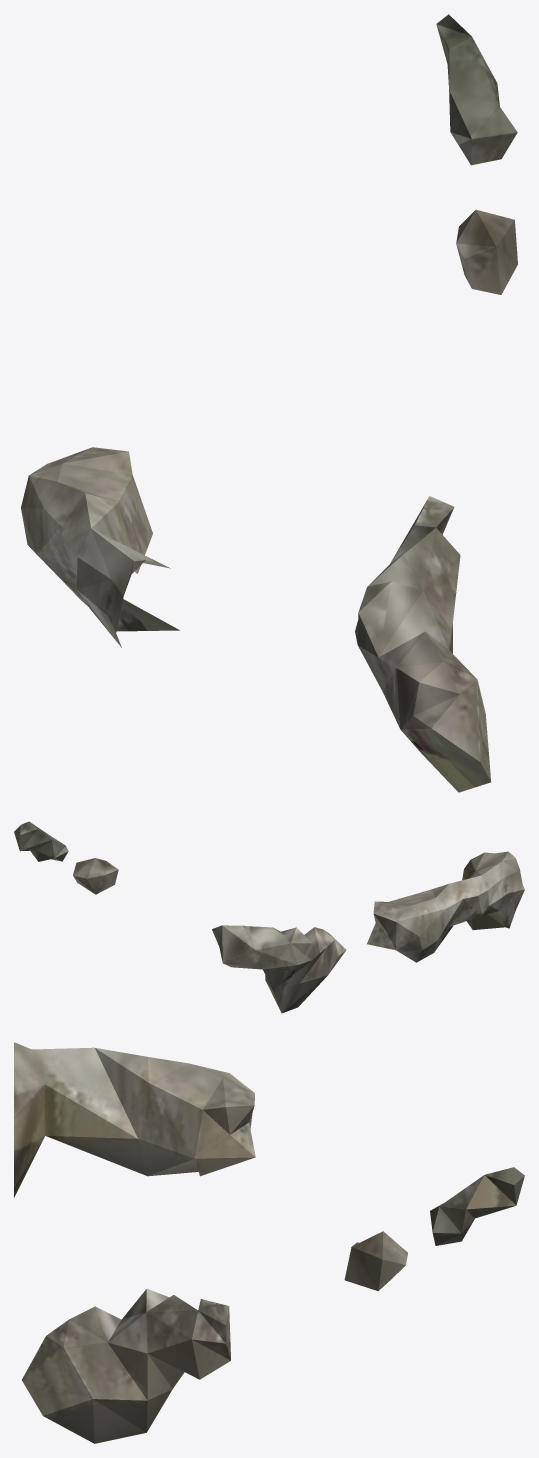
3 renders of one model, top to bottom at view 1: azimuth 30°, elevation 25°; view 2: azimuth 150°, elevation 25°; view 3: azimuth 270°, elevation 25°, orthographic. The views are drawn at different scales.
Bounding box in the file's own units: 1.75 × 1.22 × 1.51.
1 material, 1 textured.
